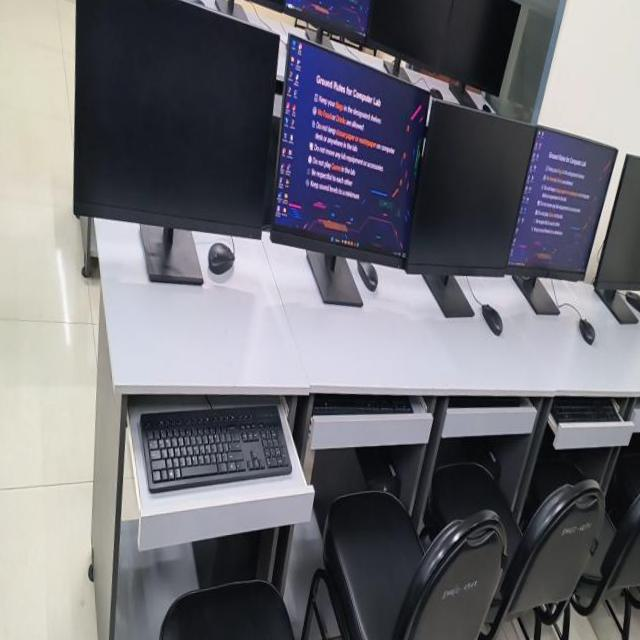Chair: (414, 446, 587, 639), (316, 468, 491, 639), (153, 539, 362, 639), (556, 466, 640, 580)
Keyboard: (144, 390, 288, 460)
Monitor: (87, 7, 290, 247), (278, 78, 434, 274), (403, 140, 535, 289), (503, 165, 611, 293), (376, 0, 461, 114), (439, 31, 524, 137), (584, 191, 640, 334), (297, 0, 390, 82), (202, 0, 303, 56), (134, 0, 205, 24)
Mouse: (215, 250, 240, 277), (357, 271, 377, 298), (476, 313, 495, 340), (614, 308, 634, 327), (569, 329, 584, 351)
